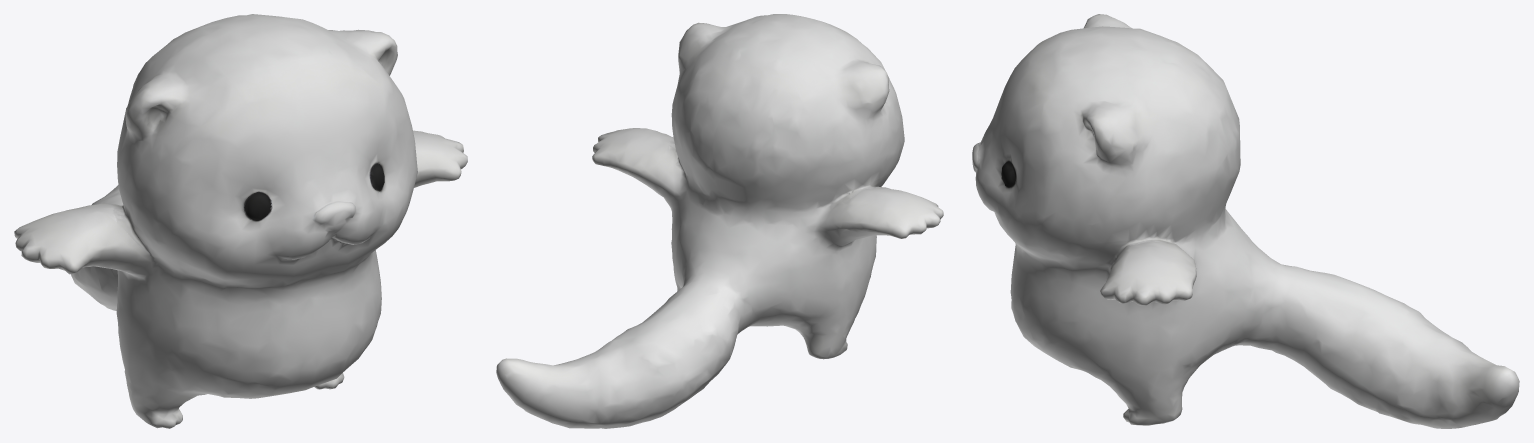
The model's file is Meshy_AI_Otterly_Adorable_1217101611_texture.fbx.
The picture shows the model from 3 angles, left to right: view 1: azimuth 30°, elevation 25°; view 2: azimuth 150°, elevation 25°; view 3: azimuth 270°, elevation 25°; orthographic projection. The views are drawn at different scales.
Visible parts, largest first — view 1: Mesh_0; view 2: Mesh_0; view 3: Mesh_0.
Boxes of the visible parts, x1,y1,x2,y2 form: Mesh_0: (14, 14, 467, 428); Mesh_0: (496, 14, 943, 428); Mesh_0: (972, 14, 1519, 428).
Bounding box in the file's own units: 117 × 100 × 140.
1 material, 1 textured.
